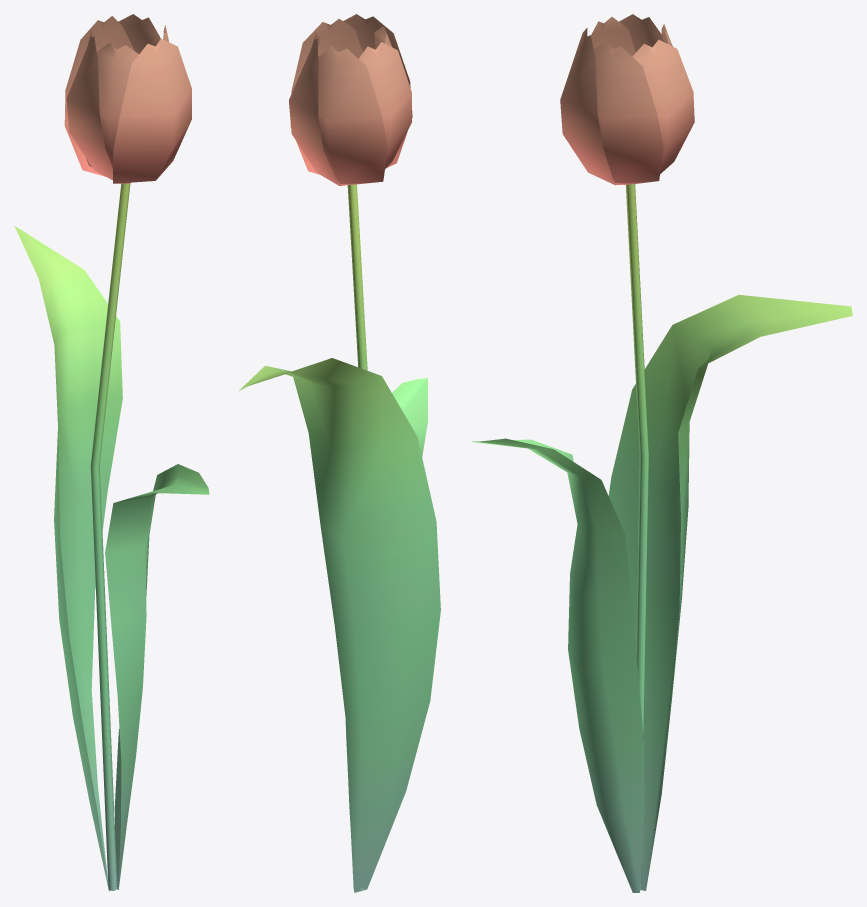
File: Flower.008_Base_Material_0.fbx
The picture shows the model from 3 angles, left to right: view 1: azimuth 30°, elevation 25°; view 2: azimuth 150°, elevation 25°; view 3: azimuth 270°, elevation 25°; orthographic projection.
Parts seen in each view (by area): view 1: Flower.008_Base_Material_0_export; view 2: Flower.008_Base_Material_0_export; view 3: Flower.008_Base_Material_0_export.
Part boxes in pixels (x1,y1,x2,y2): Flower.008_Base_Material_0_export: [14, 14, 209, 891]; Flower.008_Base_Material_0_export: [239, 14, 440, 892]; Flower.008_Base_Material_0_export: [471, 14, 852, 892].
Size of the model in its own units: 0.3527 by 2.27 by 0.9088.
